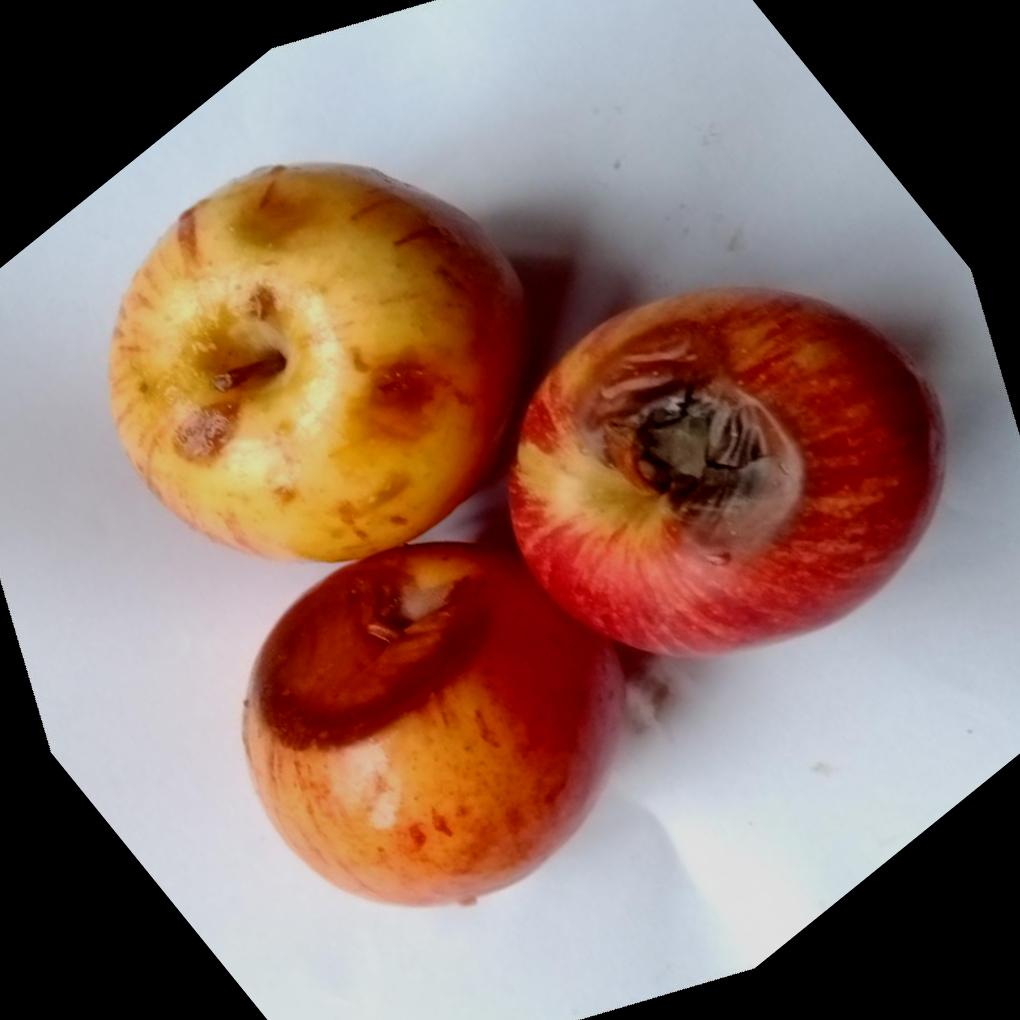FreshOrange: (103, 160, 944, 906)
